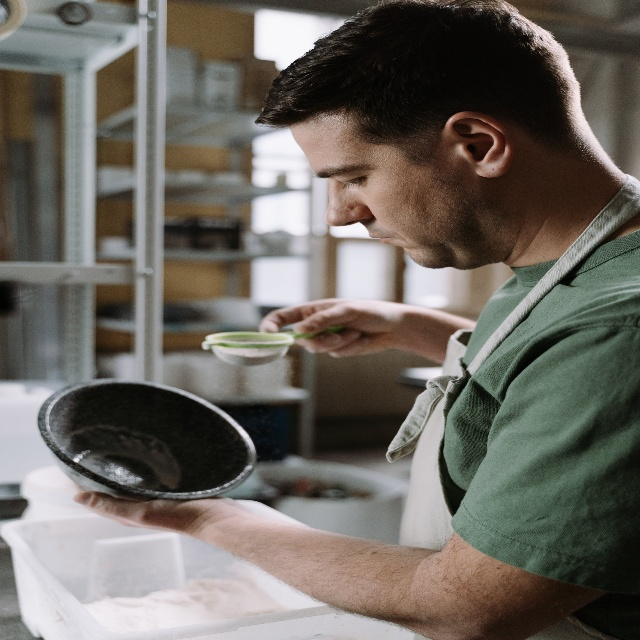Sin_guantes: (258, 297, 399, 359), (72, 482, 225, 533)
